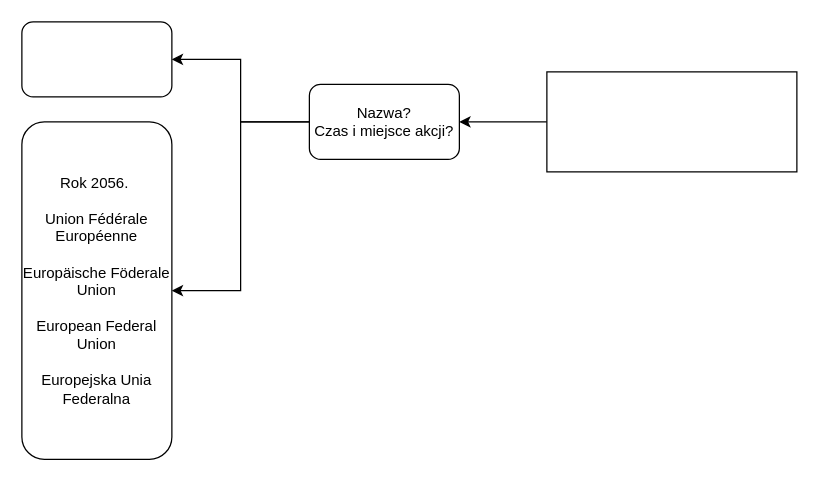
Some shapes in this 819 by 481 pixel diagram are drawn without their labels. Each missing label, with the box of its shape:
Bohater zostaje wrzucony do kolonii: (546, 71, 797, 172)
Obóz Internowanych 12A // Internment Camp 12A: (21, 21, 172, 97)
